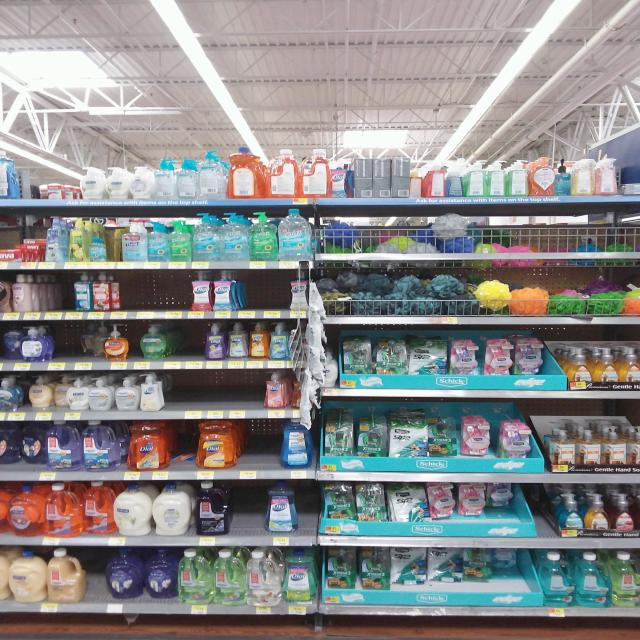empty_space: (173, 375, 259, 405), (130, 280, 189, 312), (242, 427, 280, 465), (242, 492, 264, 532), (174, 322, 199, 354), (257, 279, 287, 305)
